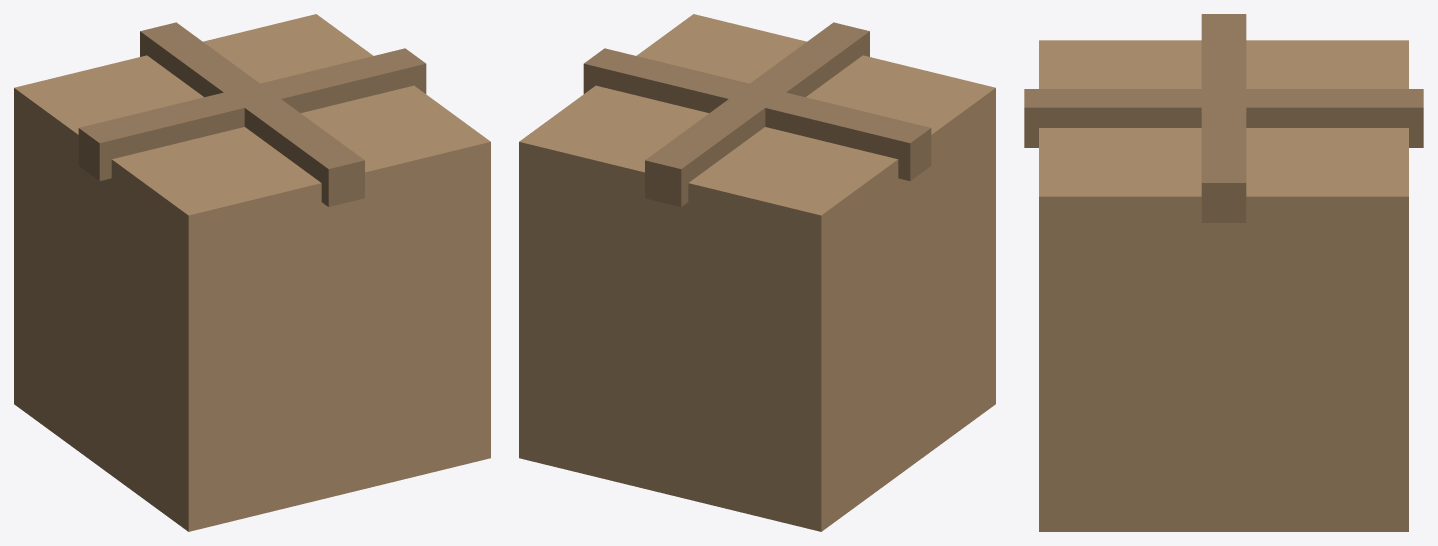
File: crate.glb
3 views of the same model, side by side, from view 1: azimuth 30°, elevation 25°; view 2: azimuth 150°, elevation 25°; view 3: azimuth 270°, elevation 25° (orthographic). The views are drawn at different scales.
Parts seen in each view (by area): view 1: crate; view 2: crate; view 3: crate.
Boxes of the visible parts, x1,y1,x2,y2 form: crate: [14, 14, 490, 531]; crate: [519, 14, 995, 531]; crate: [1024, 14, 1423, 531].
Size of the model in its own units: 0.54 by 0.53 by 0.54.
